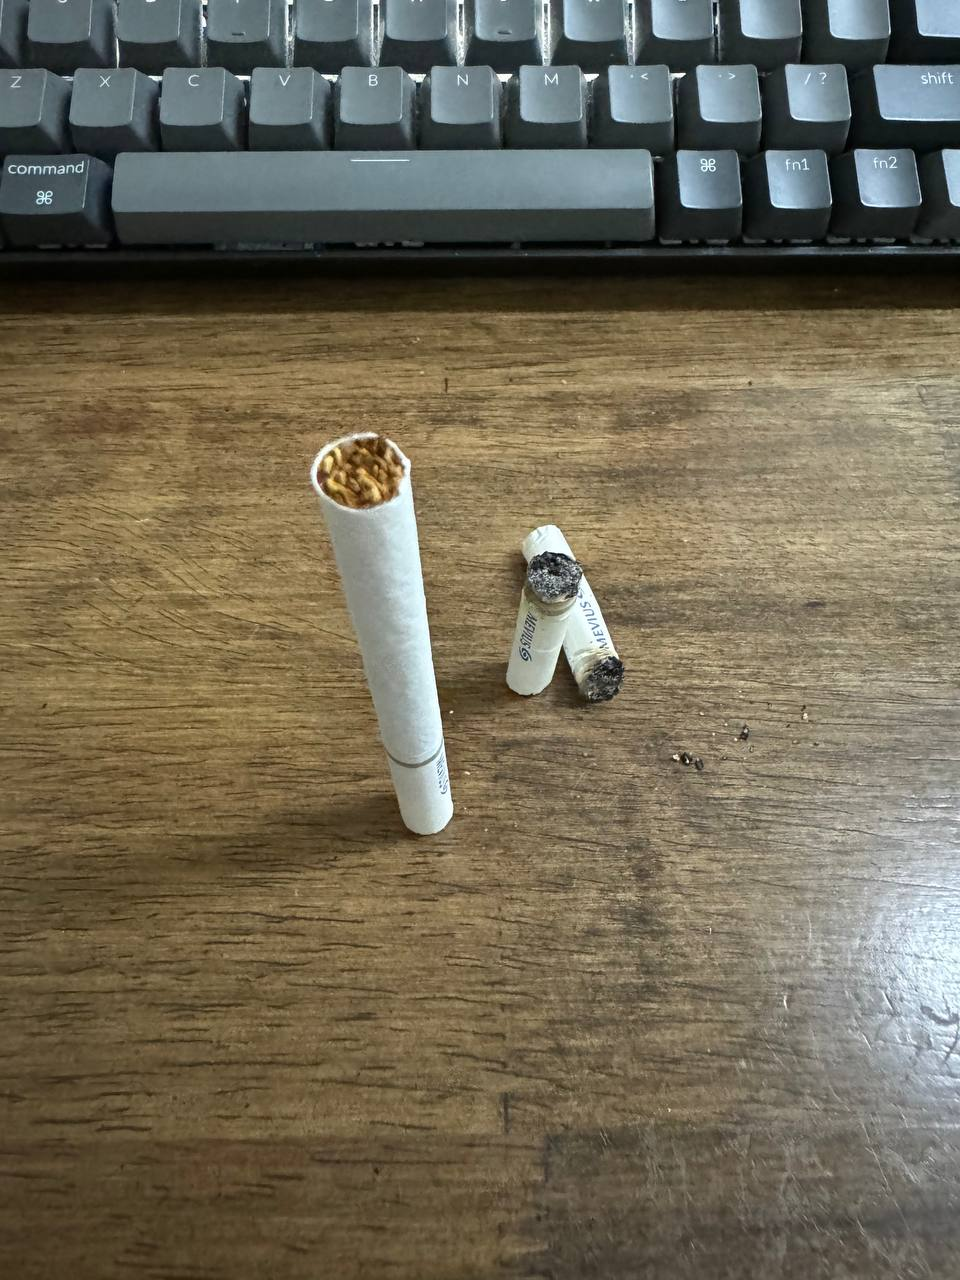trash: (303, 420, 461, 843), (493, 514, 636, 714)
